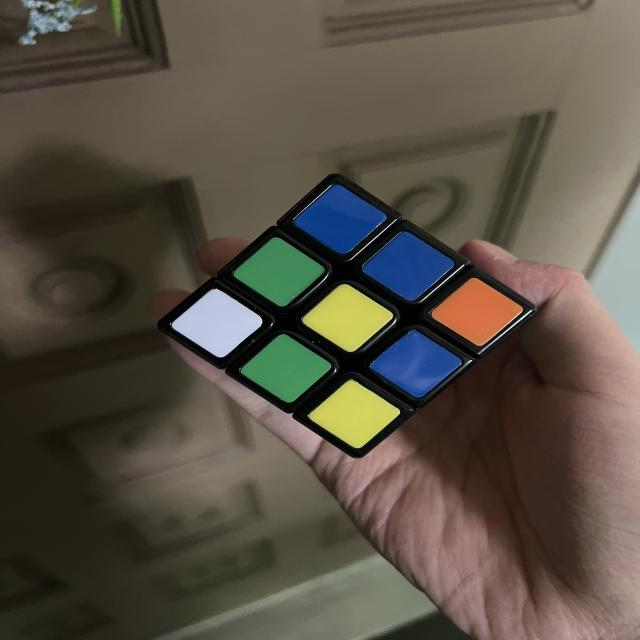blue: (367, 316, 465, 412), (291, 174, 389, 265), (360, 221, 456, 312)
center: (300, 273, 395, 363)
green: (230, 226, 327, 317), (238, 323, 334, 414)
orange: (429, 267, 524, 357)
white: (170, 278, 265, 368)
yellow: (306, 369, 402, 459)
